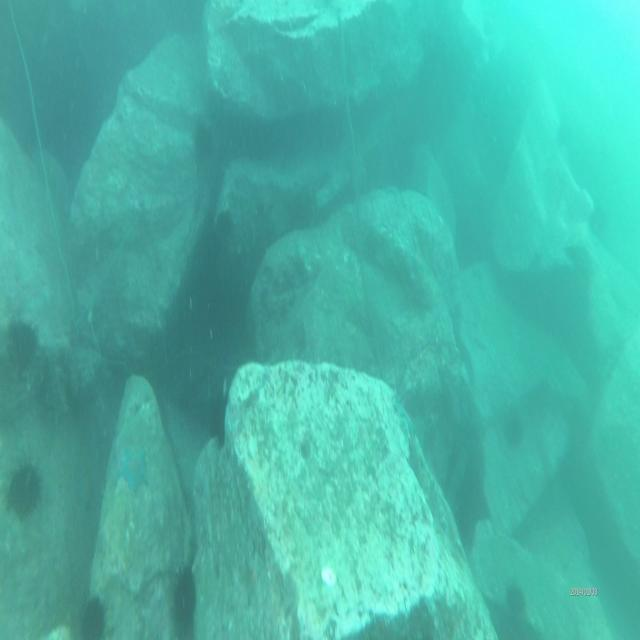echinus: (1, 456, 52, 528), (0, 313, 46, 382), (170, 556, 198, 632), (75, 588, 110, 640)
starfish: (118, 443, 150, 495)
